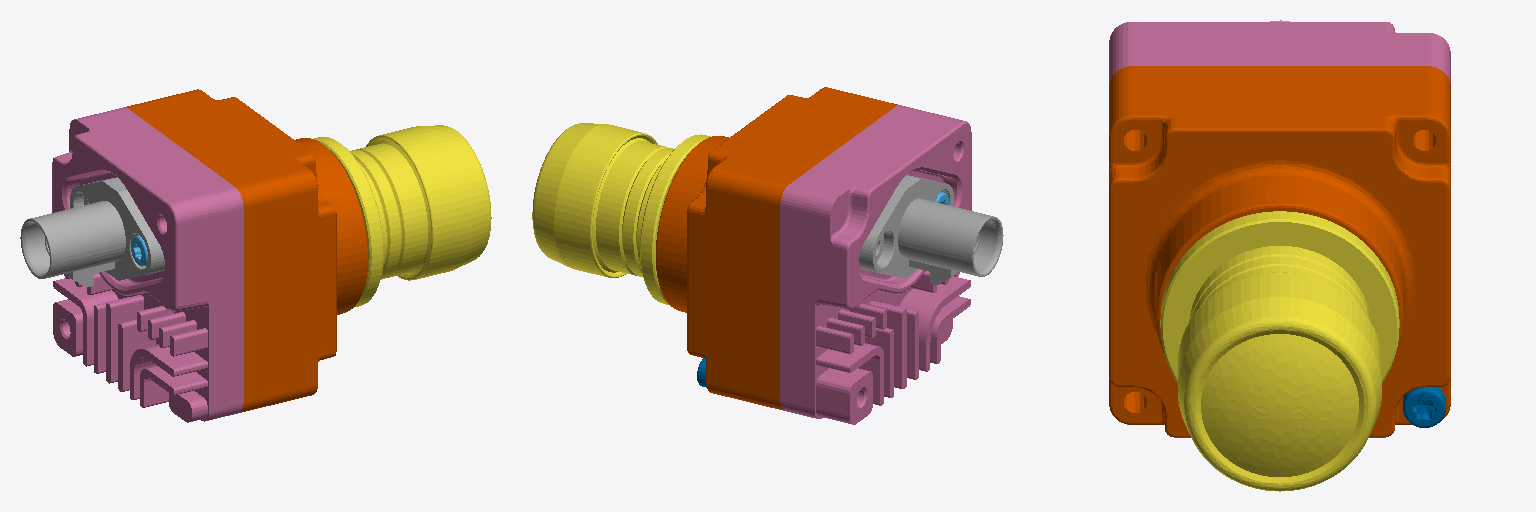
The robot description file, URDF, robot "SG8S_AR0820C_5300_G2A_H120YA":
<?xml version="1.0"?>
<!-- Generated by usd2urdf.py from SG8S-AR0820C-5300-G2A-H120YA.calibrated.acceptance.usd -->
<!-- metersPerUnit=0.01 upAxis=Z -->
<robot name="SG8S_AR0820C_5300_G2A_H120YA">
  <link name="base_link">
  </link>
  <link name="Root">
  </link>
  <link name="SG8S_AR0820C_5300_G2A_H120YA">
  </link>
  <link name="Lens">
    <visual>
      <origin xyz="0 0 0" rpy="0 0 0"/>
      <geometry>
        <mesh filename="meshes/Mesh.stl"/>
      </geometry>
    </visual>
    <collision>
      <origin xyz="0 0 0" rpy="0 0 0"/>
      <geometry>
        <mesh filename="meshes/Mesh.stl"/>
      </geometry>
    </collision>
    <inertial>
      <origin xyz="0 0 0" rpy="0 0 0"/>
      <mass value="0.15"/>
      <inertia ixx="0.00110249993" ixy="0" ixz="0" iyy="0.00162803054" iyz="0" izz="0.00162803054"/>
    </inertial>
  </link>
  <link name="SG8S_AR0820C_5300_G2A_H120YA_1">
  </link>
  <link name="Top">
    <visual>
      <origin xyz="0 0 0" rpy="0 0 0"/>
      <geometry>
        <mesh filename="meshes/Mesh_1.stl"/>
      </geometry>
    </visual>
    <collision>
      <origin xyz="0 0 0" rpy="0 0 0"/>
      <geometry>
        <mesh filename="meshes/Mesh_1.stl"/>
      </geometry>
    </collision>
    <inertial>
      <origin xyz="0 0 0" rpy="0 0 0"/>
      <mass value="0.15"/>
      <inertia ixx="0.00162026093" ixy="0" ixz="0" iyy="0.00162026138" iyz="0" izz="0.00224999973"/>
    </inertial>
  </link>
  <link name="Botton">
    <visual>
      <origin xyz="0 0 0" rpy="0 0 0"/>
      <geometry>
        <mesh filename="meshes/Mesh_2.stl"/>
      </geometry>
    </visual>
    <collision>
      <origin xyz="0 0 0" rpy="0 0 0"/>
      <geometry>
        <mesh filename="meshes/Mesh_2.stl"/>
      </geometry>
    </collision>
    <inertial>
      <origin xyz="0 0 0" rpy="0 0 0"/>
      <mass value="0.15"/>
      <inertia ixx="0.00125428579" ixy="0" ixz="0" iyy="0.00125428612" iyz="0" izz="0.00224999962"/>
    </inertial>
  </link>
  <link name="Fakra">
    <visual>
      <origin xyz="0 0 0" rpy="0 0 0"/>
      <geometry>
        <mesh filename="meshes/Mesh_3.stl"/>
      </geometry>
    </visual>
    <collision>
      <origin xyz="0 0 0" rpy="0 0 0"/>
      <geometry>
        <mesh filename="meshes/Mesh_3.stl"/>
      </geometry>
    </collision>
    <inertial>
      <origin xyz="0 0 0" rpy="0 0 0"/>
      <mass value="0.15"/>
      <inertia ixx="0.000664724523" ixy="0" ixz="0" iyy="0.000589528158" iyz="0" izz="0.000885196429"/>
    </inertial>
  </link>
  <link name="Screw">
    <visual>
      <origin xyz="0 0 0" rpy="0 0 0"/>
      <geometry>
        <mesh filename="meshes/Mesh_4.stl"/>
      </geometry>
    </visual>
    <collision>
      <origin xyz="0 0 0" rpy="0 0 0"/>
      <geometry>
        <mesh filename="meshes/Mesh_4.stl"/>
      </geometry>
    </collision>
    <inertial>
      <origin xyz="0 0 0" rpy="0 0 0"/>
      <mass value="0.15"/>
      <inertia ixx="5.5683573e-05" ixy="0" ixz="0" iyy="6.83346213e-05" iyz="0" izz="7.48162515e-05"/>
    </inertial>
  </link>
  <link name="Screw_01">
    <visual>
      <origin xyz="0 0 0" rpy="0 0 0"/>
      <geometry>
        <mesh filename="meshes/Mesh_5.stl"/>
      </geometry>
    </visual>
    <collision>
      <origin xyz="0 0 0" rpy="0 0 0"/>
      <geometry>
        <mesh filename="meshes/Mesh_5.stl"/>
      </geometry>
    </collision>
    <inertial>
      <origin xyz="0 0 0" rpy="0 0 0"/>
      <mass value="0.15"/>
      <inertia ixx="5.5683573e-05" ixy="0" ixz="0" iyy="6.83346213e-05" iyz="0" izz="7.48162515e-05"/>
    </inertial>
  </link>
  <link name="Screw_02">
    <visual>
      <origin xyz="0 0 0" rpy="0 0 0"/>
      <geometry>
        <mesh filename="meshes/Mesh_6.stl"/>
      </geometry>
    </visual>
    <collision>
      <origin xyz="0 0 0" rpy="0 0 0"/>
      <geometry>
        <mesh filename="meshes/Mesh_6.stl"/>
      </geometry>
    </collision>
    <inertial>
      <origin xyz="0 0 0" rpy="0 0 0"/>
      <mass value="0.15"/>
      <inertia ixx="0.000194591302" ixy="0" ixz="0" iyy="0.000318453528" iyz="0" izz="0.000361783971"/>
    </inertial>
  </link>
  <link name="Screw_03">
    <visual>
      <origin xyz="0 0 0" rpy="0 0 0"/>
      <geometry>
        <mesh filename="meshes/Mesh_7.stl"/>
      </geometry>
    </visual>
    <collision>
      <origin xyz="0 0 0" rpy="0 0 0"/>
      <geometry>
        <mesh filename="meshes/Mesh_7.stl"/>
      </geometry>
    </collision>
    <inertial>
      <origin xyz="0 0 0" rpy="0 0 0"/>
      <mass value="0.15"/>
      <inertia ixx="0.000194591302" ixy="0" ixz="0" iyy="0.000318453528" iyz="0" izz="0.000361783971"/>
    </inertial>
  </link>
  <link name="Screw_04">
    <visual>
      <origin xyz="0 0 0" rpy="0 0 0"/>
      <geometry>
        <mesh filename="meshes/Mesh_8.stl"/>
      </geometry>
    </visual>
    <collision>
      <origin xyz="0 0 0" rpy="0 0 0"/>
      <geometry>
        <mesh filename="meshes/Mesh_8.stl"/>
      </geometry>
    </collision>
    <inertial>
      <origin xyz="0 0 0" rpy="0 0 0"/>
      <mass value="0.15"/>
      <inertia ixx="0.000194591302" ixy="0" ixz="0" iyy="0.000318453528" iyz="0" izz="0.000361783971"/>
    </inertial>
  </link>
  <link name="Screw_05">
    <visual>
      <origin xyz="0 0 0" rpy="0 0 0"/>
      <geometry>
        <mesh filename="meshes/Mesh_9.stl"/>
      </geometry>
    </visual>
    <collision>
      <origin xyz="0 0 0" rpy="0 0 0"/>
      <geometry>
        <mesh filename="meshes/Mesh_9.stl"/>
      </geometry>
    </collision>
    <inertial>
      <origin xyz="0 0 0" rpy="0 0 0"/>
      <mass value="0.15"/>
      <inertia ixx="0.000194591302" ixy="0" ixz="0" iyy="0.000318453528" iyz="0" izz="0.000361783971"/>
    </inertial>
  </link>
  <link name="sg8s_ar0820c_5300_g2a_h120ya_lens">
  </link>
  <joint name="base_link_to_Root" type="fixed">
    <parent link="base_link"/>
    <child link="Root"/>
    <origin xyz="0 0 0" rpy="0 0 0"/>
  </joint>
  <joint name="Root_to_SG8S_AR0820C_5300_G2A_H120YA" type="fixed">
    <parent link="Root"/>
    <child link="SG8S_AR0820C_5300_G2A_H120YA"/>
    <origin xyz="0 0 0" rpy="0 1.57079633 0"/>
  </joint>
  <joint name="SG8S_AR0820C_5300_G2A_H120YA_to_Lens" type="fixed">
    <parent link="SG8S_AR0820C_5300_G2A_H120YA"/>
    <child link="Lens"/>
    <origin xyz="0.152359832 0.152359847 0.173000327" rpy="-2.74103357e-08 1.57079633 0"/>
  </joint>
  <joint name="Lens_to_SG8S_AR0820C_5300_G2A_H120YA_1" type="fixed">
    <parent link="Lens"/>
    <child link="SG8S_AR0820C_5300_G2A_H120YA_1"/>
    <origin xyz="0 0 0" rpy="-1.57079633 0 -1.57079633"/>
  </joint>
  <joint name="SG8S_AR0820C_5300_G2A_H120YA_to_Top" type="fixed">
    <parent link="SG8S_AR0820C_5300_G2A_H120YA"/>
    <child link="Top"/>
    <origin xyz="0.152359832 1.03235985 -0.145" rpy="0 0 0"/>
  </joint>
  <joint name="SG8S_AR0820C_5300_G2A_H120YA_to_Botton" type="fixed">
    <parent link="SG8S_AR0820C_5300_G2A_H120YA"/>
    <child link="Botton"/>
    <origin xyz="0.152359832 1.03235985 -0.145" rpy="0 0 0"/>
  </joint>
  <joint name="SG8S_AR0820C_5300_G2A_H120YA_to_Fakra" type="fixed">
    <parent link="SG8S_AR0820C_5300_G2A_H120YA"/>
    <child link="Fakra"/>
    <origin xyz="0.0901598111 0.152359847 -0.2492" rpy="4.05858743e-08 1.57079633 0"/>
  </joint>
  <joint name="SG8S_AR0820C_5300_G2A_H120YA_to_Screw" type="fixed">
    <parent link="SG8S_AR0820C_5300_G2A_H120YA"/>
    <child link="Screw"/>
    <origin xyz="-3.77401047 -13.818492 -3.80940256" rpy="-2.18248173 -0.941486389 0.515846833"/>
  </joint>
  <joint name="SG8S_AR0820C_5300_G2A_H120YA_to_Screw_01" type="fixed">
    <parent link="SG8S_AR0820C_5300_G2A_H120YA"/>
    <child link="Screw_01"/>
    <origin xyz="-3.77401047 -13.954492 -3.80940256" rpy="-2.18248173 -0.941486389 0.515846833"/>
  </joint>
  <joint name="SG8S_AR0820C_5300_G2A_H120YA_to_Screw_02" type="fixed">
    <parent link="SG8S_AR0820C_5300_G2A_H120YA"/>
    <child link="Screw_02"/>
    <origin xyz="3.88953013 -14.013492 3.37720256" rpy="0.959110919 0.941486389 2.62574582"/>
  </joint>
  <joint name="SG8S_AR0820C_5300_G2A_H120YA_to_Screw_03" type="fixed">
    <parent link="SG8S_AR0820C_5300_G2A_H120YA"/>
    <child link="Screw_03"/>
    <origin xyz="3.88953013 -13.759492 3.37720256" rpy="0.959110919 0.941486389 2.62574582"/>
  </joint>
  <joint name="SG8S_AR0820C_5300_G2A_H120YA_to_Screw_04" type="fixed">
    <parent link="SG8S_AR0820C_5300_G2A_H120YA"/>
    <child link="Screw_04"/>
    <origin xyz="4.14353013 -13.759492 3.37720256" rpy="0.959110919 0.941486389 2.62574582"/>
  </joint>
  <joint name="SG8S_AR0820C_5300_G2A_H120YA_to_Screw_05" type="fixed">
    <parent link="SG8S_AR0820C_5300_G2A_H120YA"/>
    <child link="Screw_05"/>
    <origin xyz="4.14353013 -14.013492 3.37720256" rpy="0.959110919 0.941486389 2.62574582"/>
  </joint>
  <joint name="SG8S_AR0820C_5300_G2A_H120YA_to_sg8s_ar0820c_5300_g2a_h120ya_lens" type="fixed">
    <parent link="SG8S_AR0820C_5300_G2A_H120YA"/>
    <child link="sg8s_ar0820c_5300_g2a_h120ya_lens"/>
    <origin xyz="0.152359832 0.152359847 0.173000327" rpy="0 0 -1.5707963"/>
  </joint>
</robot>

--- Render facts (derived) ---
3 views of the same robot in one strip: view 1: azimuth 30°, elevation 25°; view 2: azimuth 150°, elevation 25°; view 3: azimuth 270°, elevation 25° (orthographic).
Robot: SG8S_AR0820C_5300_G2A_H120YA — 15 links, 14 joints (14 fixed); root link base_link; default pose: every joint at zero.
Visible links, largest first — view 1: Botton, Top, Lens, Fakra; view 2: Botton, Top, Lens, Fakra; view 3: Top, Lens, Botton, Screw_04.
Boxes of the visible links, box(x1,y1,x2,y2) form: Botton: box(52, 107, 243, 422); Top: box(126, 89, 367, 412); Lens: box(314, 125, 491, 306); Fakra: box(20, 177, 164, 286); Botton: box(780, 105, 971, 424); Top: box(656, 87, 897, 410); Lens: box(532, 123, 710, 304); Fakra: box(859, 175, 1003, 284); Top: box(1109, 66, 1450, 437); Lens: box(1160, 211, 1399, 491); Botton: box(1109, 22, 1450, 83); Screw_04: box(1403, 387, 1445, 427).
Size in the robot's own frame: 0.6022 by 0.3 by 0.3 metres.
6 mesh visuals loaded from 10 distinct referenced files (6 binary STL); not drawn: 4 (reference not matched to a file when rendering).
